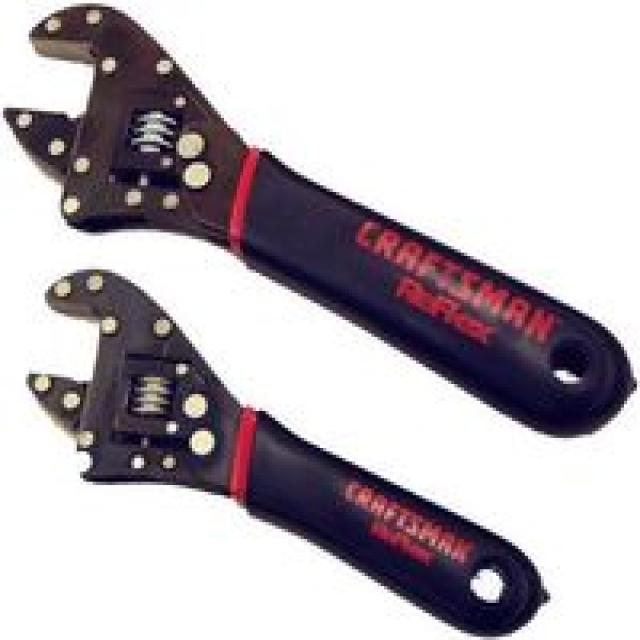wrench: (6, 0, 528, 263), (0, 265, 378, 545)
